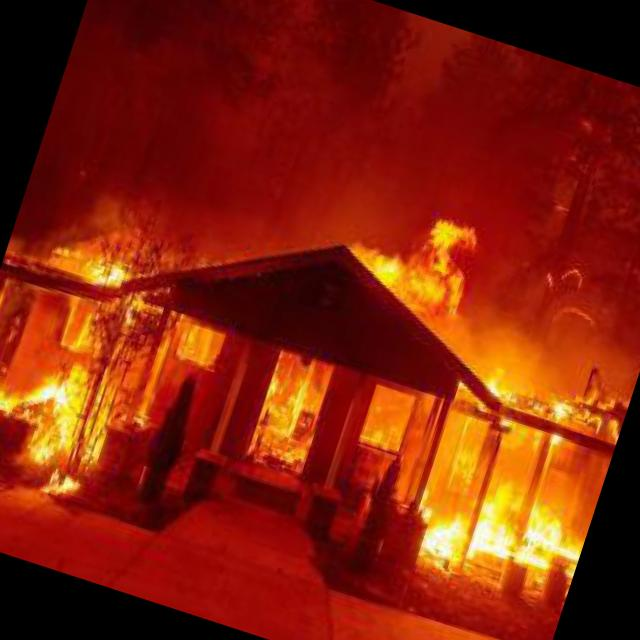fire: (473, 356, 598, 463), (0, 360, 95, 466), (404, 217, 482, 324), (252, 378, 322, 471), (454, 496, 526, 574), (411, 492, 479, 568), (356, 238, 419, 306), (520, 490, 580, 554), (542, 524, 588, 598), (81, 252, 132, 305), (32, 465, 87, 514), (0, 348, 22, 431)
